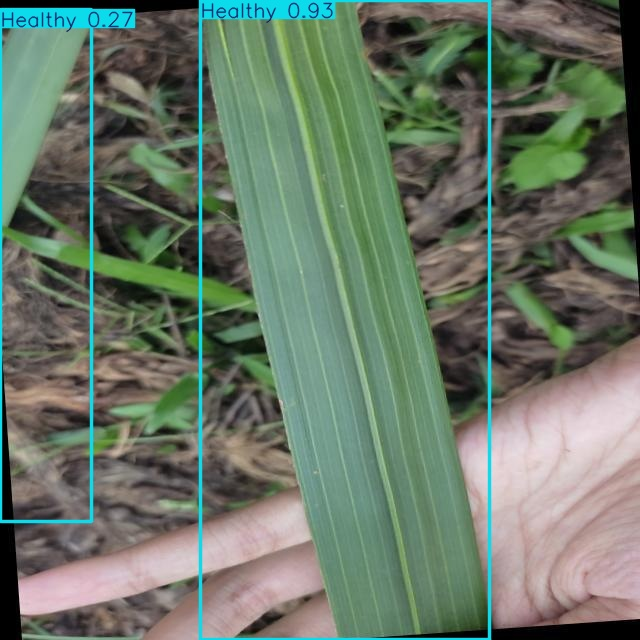Healthy: (201, 0, 490, 640), (0, 9, 92, 522)
